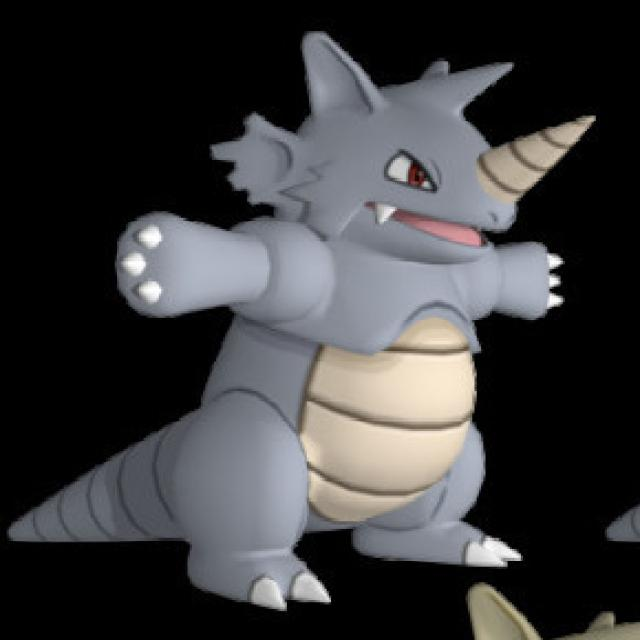Rhydon: (190, 83, 579, 560)
